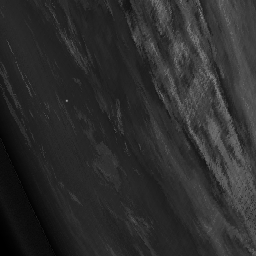Target: (64, 98, 69, 103)
